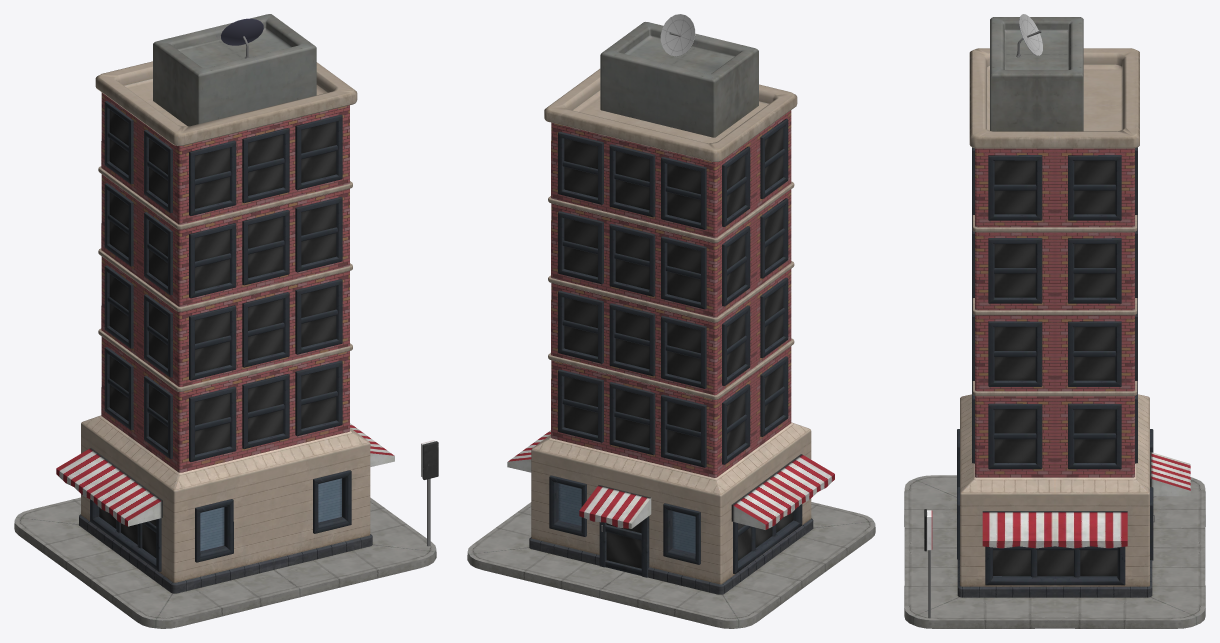
File: small-city-building1.glb
3 views of the same model, side by side, from view 1: azimuth 30°, elevation 25°; view 2: azimuth 150°, elevation 25°; view 3: azimuth 270°, elevation 25° (orthographic). The views are drawn at different scales.
Visible parts, largest first — view 1: small_city_building_1.1; view 2: small_city_building_1.1; view 3: small_city_building_1.1.
Boxes of the visible parts, x1,y1,x2,y2 form: small_city_building_1.1: [14, 14, 438, 628]; small_city_building_1.1: [467, 14, 875, 628]; small_city_building_1.1: [904, 14, 1205, 628].
Size of the model in its own units: 12.26 by 21.21 by 10.7.
Materials: 1 (1 with a texture image).
